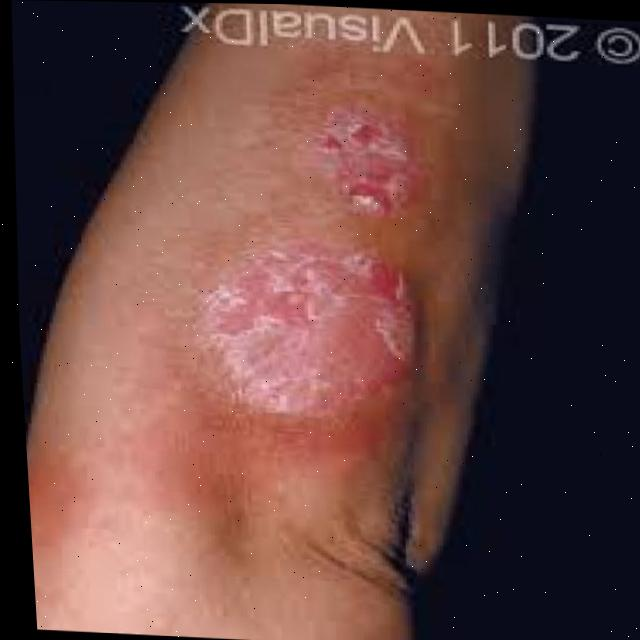Eczema: (213, 269, 420, 425), (305, 82, 420, 208)
